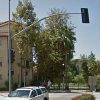Tree: (23, 5, 77, 82)
